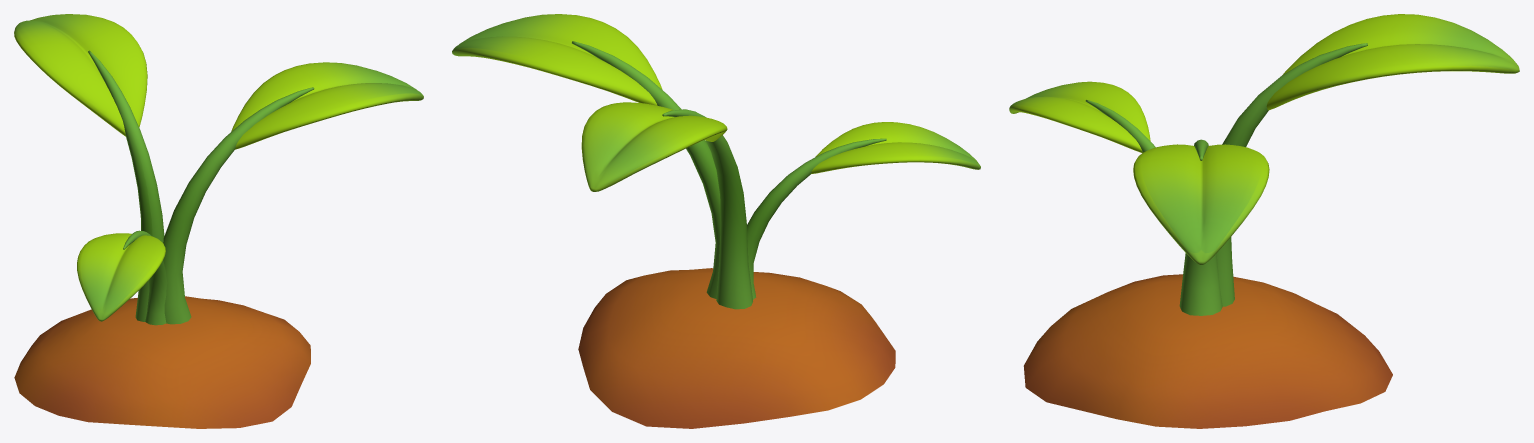
File: Seeding.fbx
3 views of the same model, side by side, from view 1: azimuth 30°, elevation 25°; view 2: azimuth 150°, elevation 25°; view 3: azimuth 270°, elevation 25° (orthographic). The views are drawn at different scales.
Parts seen in each view (by area): view 1: 立方体.001; view 2: 立方体.001; view 3: 立方体.001.
Boxes of the visible parts, x1,y1,x2,y2 form: 立方体.001: (14,14,423,428); 立方体.001: (452,14,980,428); 立方体.001: (1009,14,1519,428).
Size of the model in its own units: 32.97 by 22.15 by 30.61.
